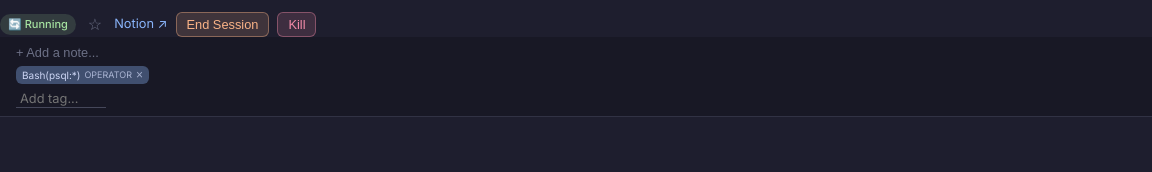
Test case: SessionControls — granted capability provenance › revokes a capability via the existing endpoint and removes the chip, reflecting the persisted result
Expected: the text "Bash(psql:*)" is shown, [22,67,80,83]
Click the button named "Revoke capability Bash(psql:*)".
click(140, 75)  # box [136,69,143,81]
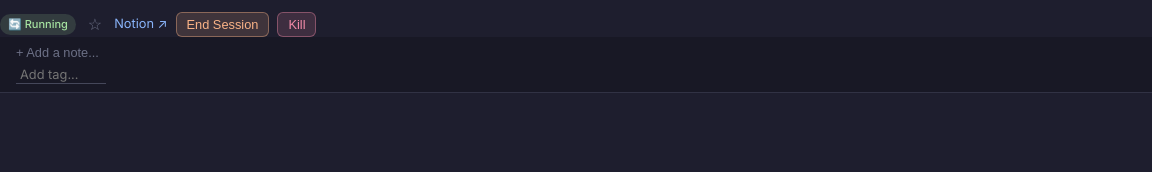
Expected: the text "Bash(psql:*)" is gone
